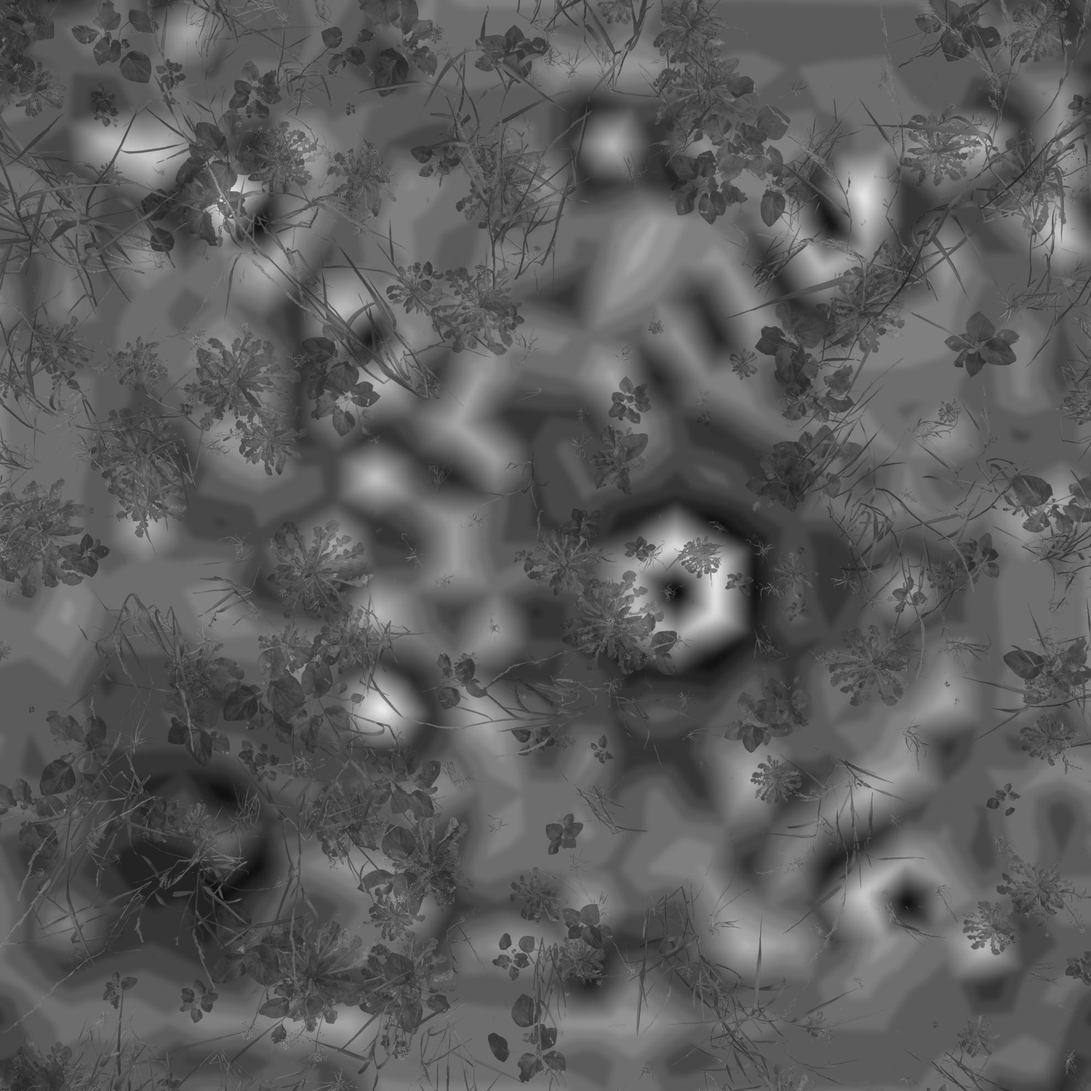landmine: (589, 511, 758, 686), (116, 766, 276, 911)
